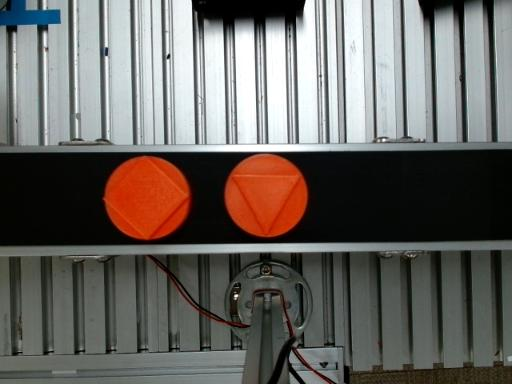Not_Square: (231, 173, 301, 237)
Orange_Waper: (102, 156, 191, 240), (224, 154, 307, 237)
Square: (104, 156, 188, 241)
